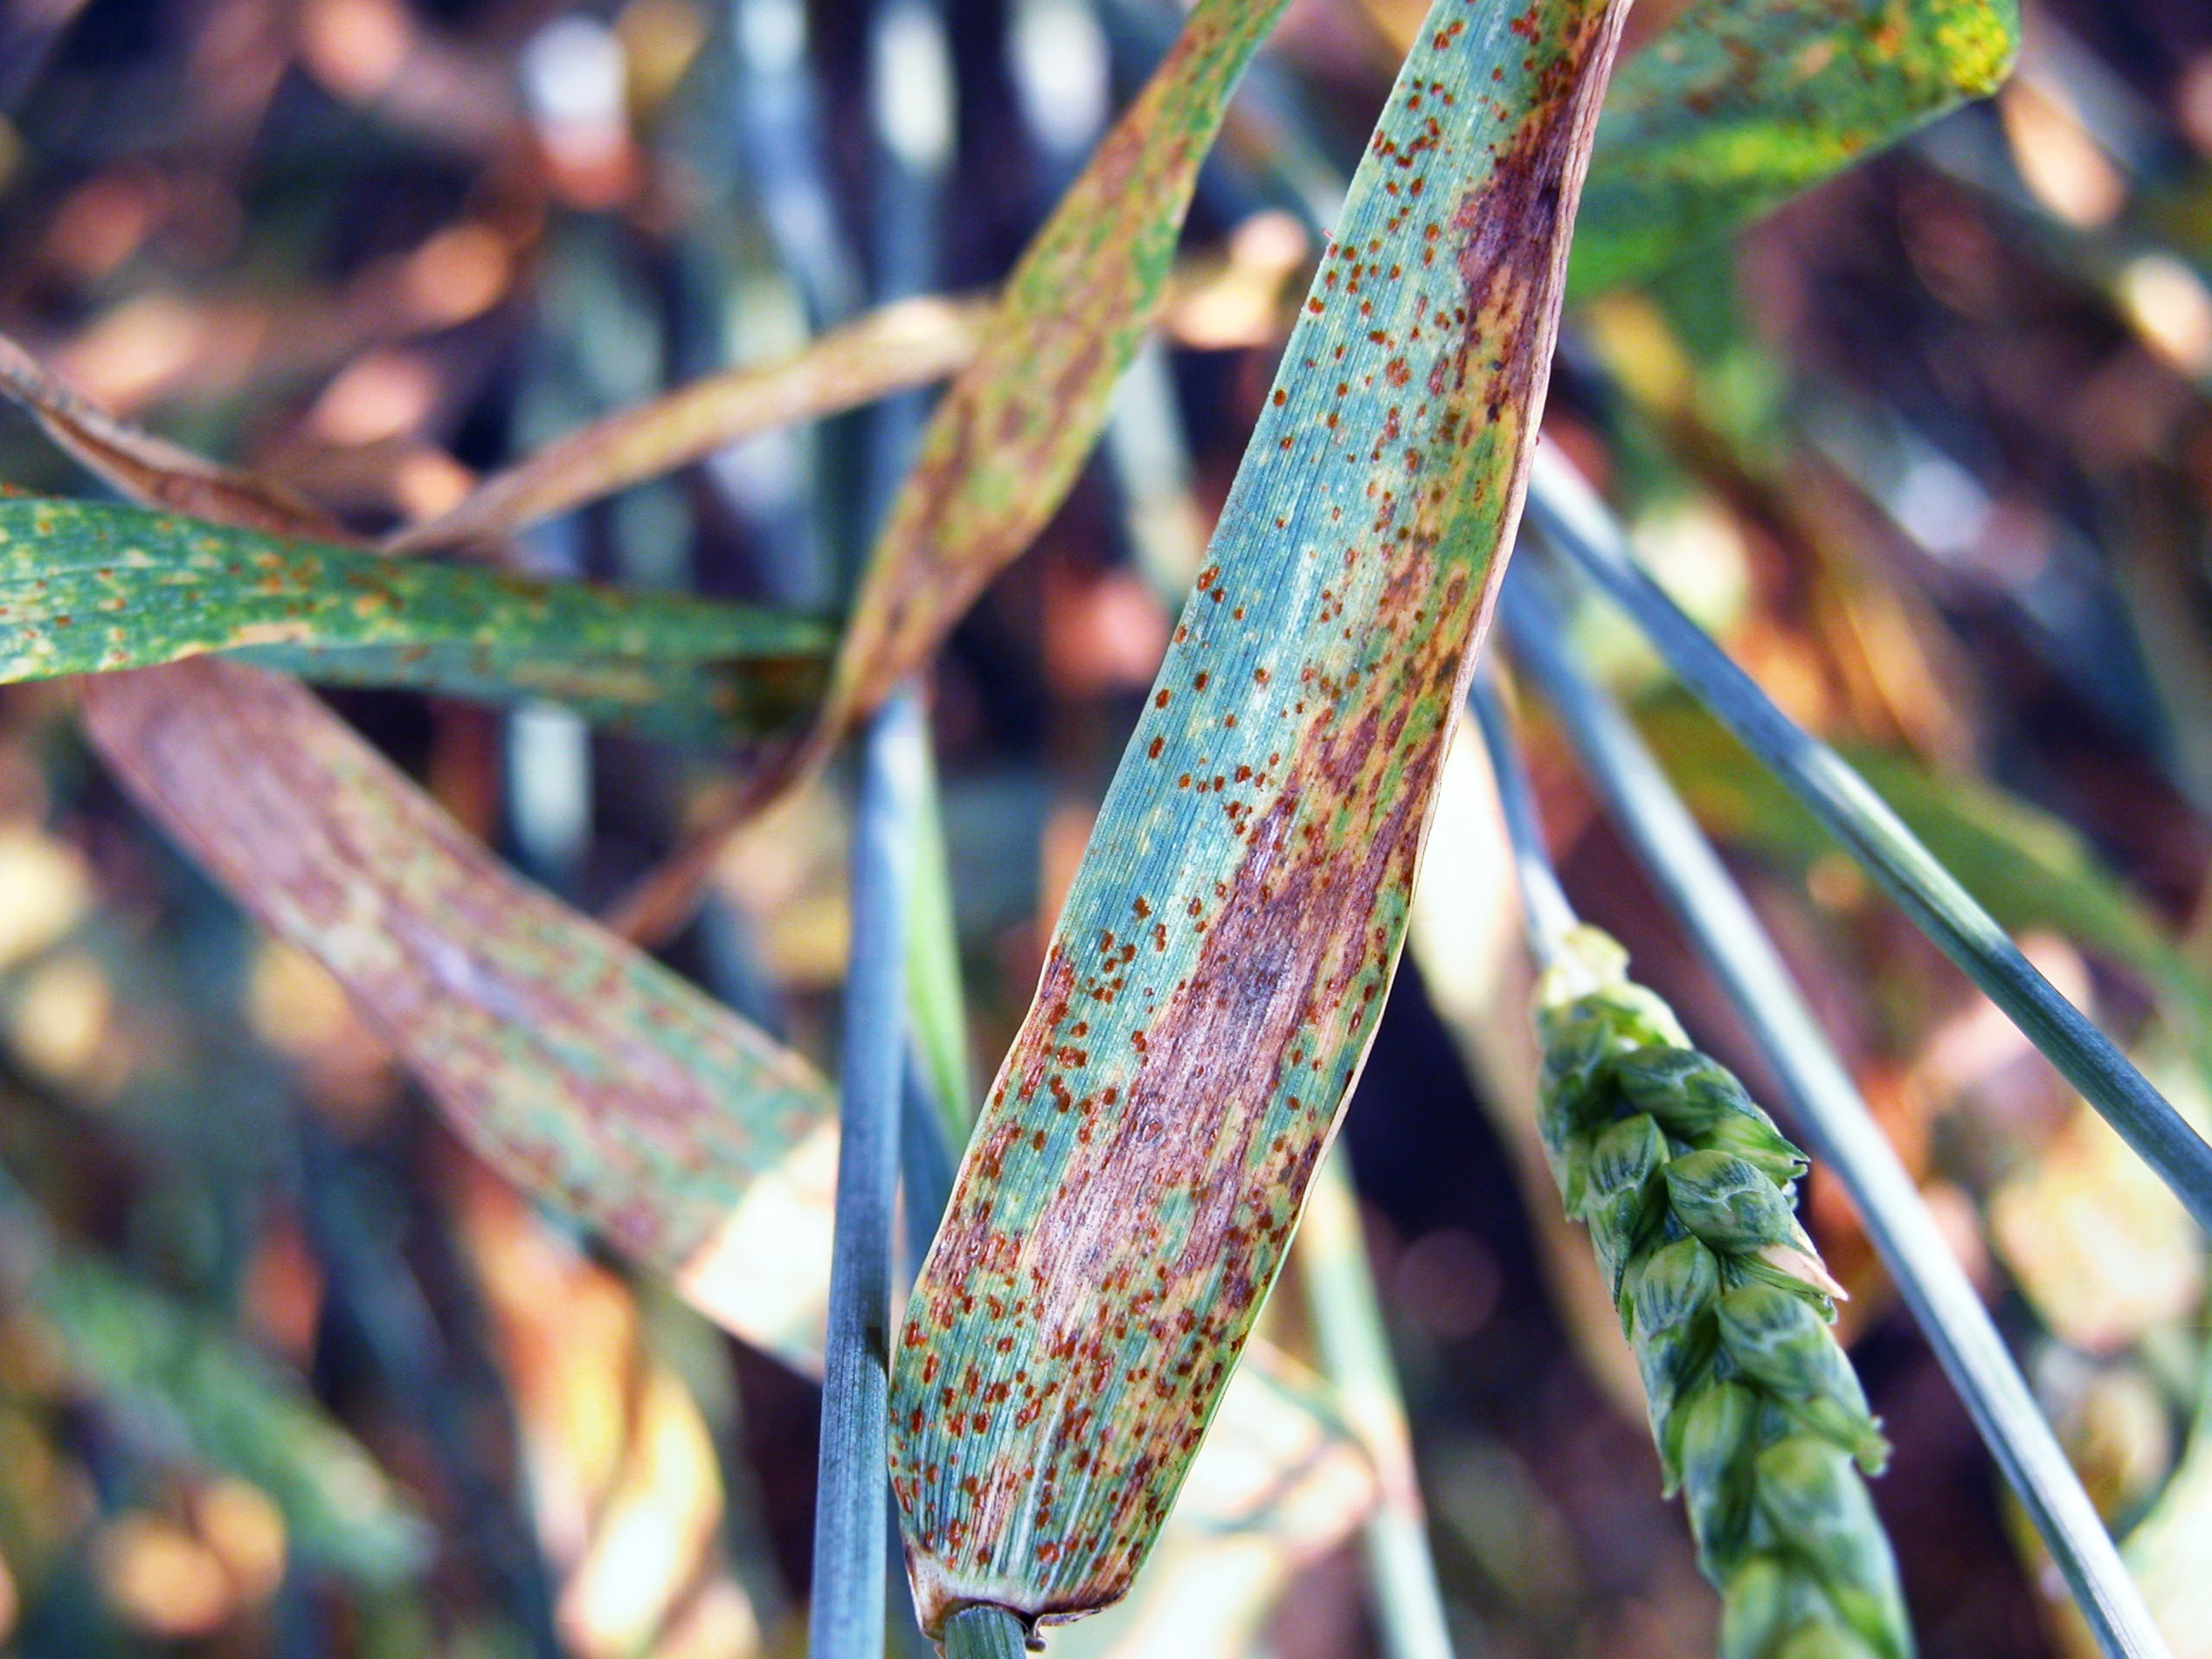Leaf Rust: (907, 228, 1561, 1607)
